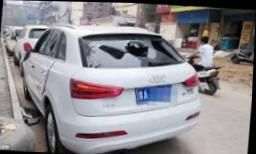Windshield: (80, 37, 186, 67)
